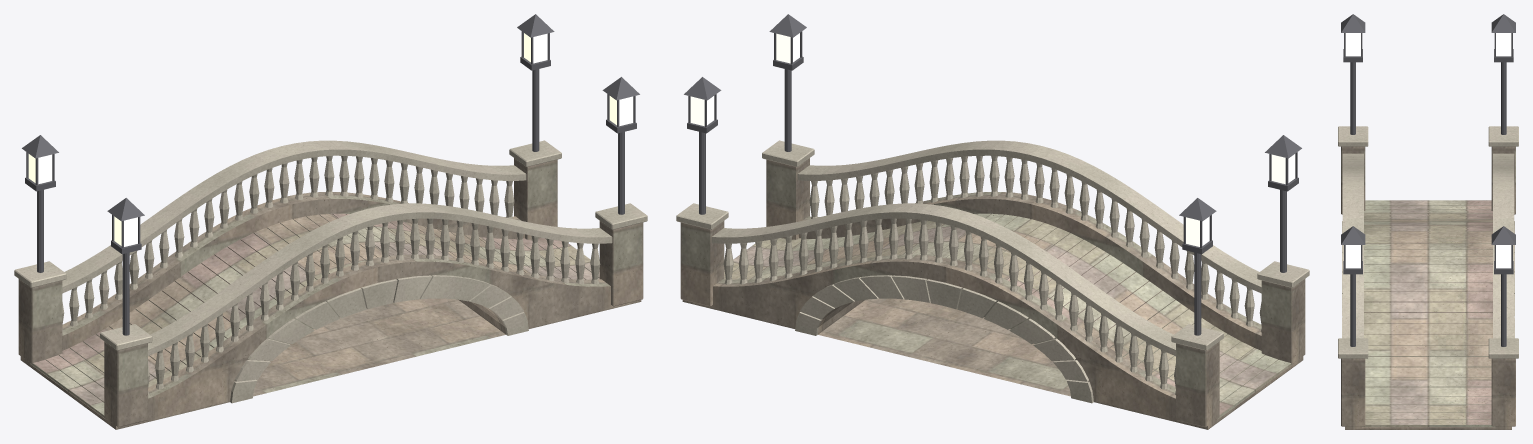
The model's file is bridge.glb.
3 renders of one model, left to right at view 1: azimuth 30°, elevation 25°; view 2: azimuth 150°, elevation 25°; view 3: azimuth 270°, elevation 25°, orthographic. The views are drawn at different scales.
Parts seen in each view (by area): view 1: bridge_bstone, bridge_carve, bridge_paving, bridge_iron, bridge_lamp_glass; view 2: bridge_bstone, bridge_carve, bridge_paving, bridge_iron, bridge_lamp_glass; view 3: bridge_paving, bridge_carve, bridge_bstone, bridge_iron, bridge_lamp_glass.
Boxes of the visible parts, x1,y1,x2,y2 form: bridge_bstone: (18,158,643,429); bridge_carve: (14,140,647,403); bridge_paving: (30,213,599,418); bridge_iron: (22,14,639,335); bridge_lamp_glass: (28,33,633,246); bridge_bstone: (680,158,1305,429); bridge_carve: (676,140,1309,403); bridge_paving: (724,213,1293,418); bridge_iron: (684,14,1301,335); bridge_lamp_glass: (690,33,1295,246); bridge_paving: (1361,200,1495,426); bridge_carve: (1338,126,1518,358); bridge_bstone: (1341,146,1515,429); bridge_iron: (1341,14,1515,346); bridge_lamp_glass: (1345,33,1511,268).
Bounding box in the file's own units: 7.08 × 2.87 × 2.38.
5 materials, 3 textured.
